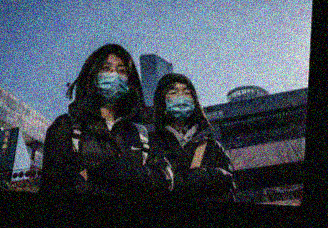with_mask: (92, 60, 130, 107), (164, 85, 196, 122)
